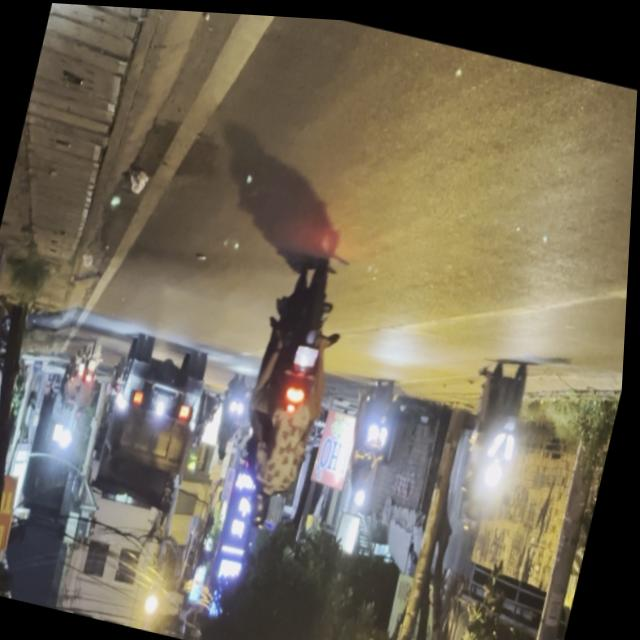helmet: (254, 484, 281, 526)
licenseplate: (225, 249, 359, 538), (443, 342, 545, 550)
nohelmet: (297, 343, 322, 367)
